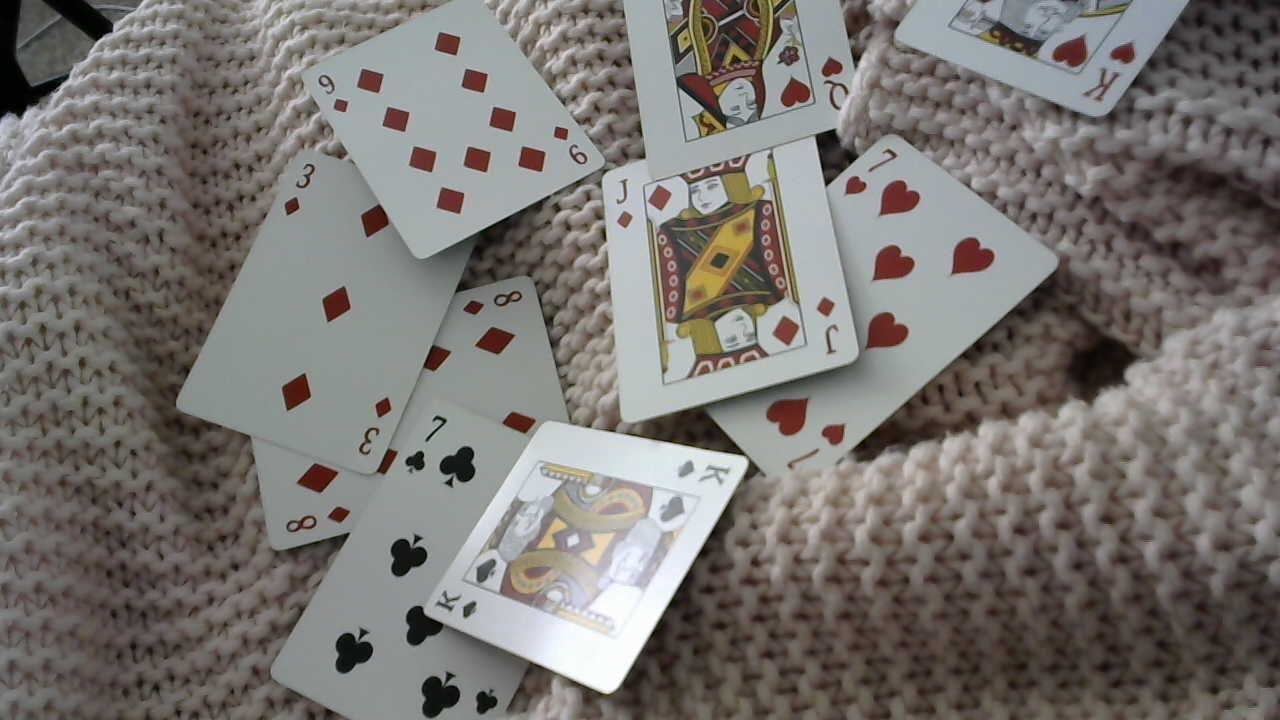3D: (352, 384, 395, 457), (276, 157, 318, 218)
7C: (403, 407, 450, 479)
7H: (836, 142, 902, 201)
8D: (456, 284, 530, 322), (284, 502, 353, 534)
9D: (547, 118, 590, 165), (312, 66, 353, 115)
JD: (811, 291, 846, 359), (610, 173, 638, 233)
KH: (1077, 37, 1139, 110)
KS: (669, 451, 734, 494), (429, 584, 484, 626)
QH: (812, 46, 859, 123)
